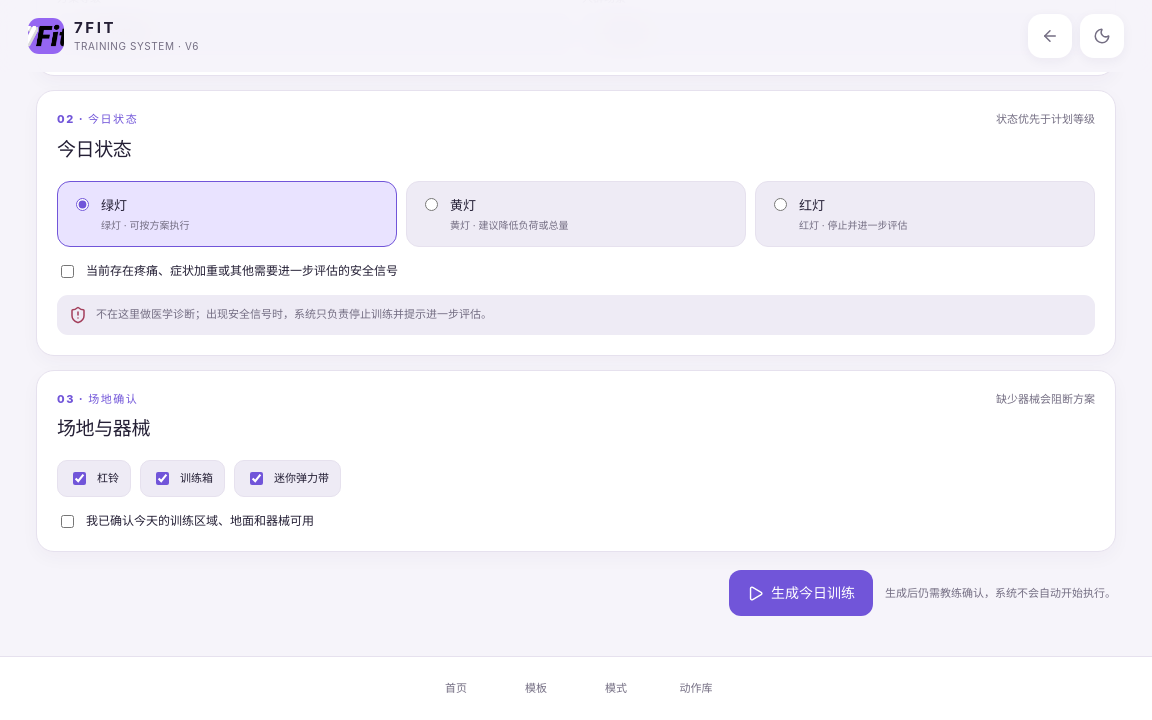
Test: PP-F111-C7 Chinese coach product integration › uses coach-facing Chinese labels instead of raw internal enums
(page scrolled)
Click the button "生成今日训练". click: click(801, 593)
box: [729, 570, 873, 616]
(page scrolled)
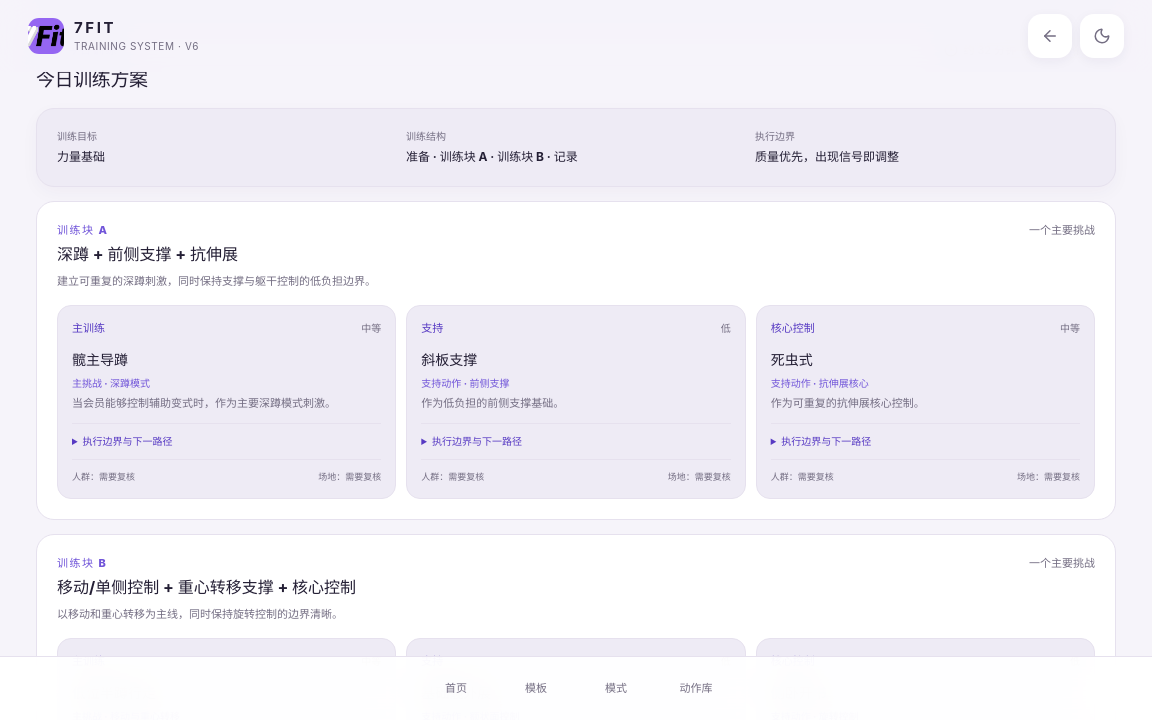
expect the text "主训练" is shown 2 times: met, box [72, 320, 105, 337]; [72, 653, 105, 670]
expect the text "人群：需要复核" below "当会员能够控制辅助变式时，作为主要深蹲模式刺激。" is shown: met, box [99, 471, 135, 482]
expect the heading "深蹲 + 前侧支撑 + 抗伸展" is shown: met, box [57, 244, 238, 264]
